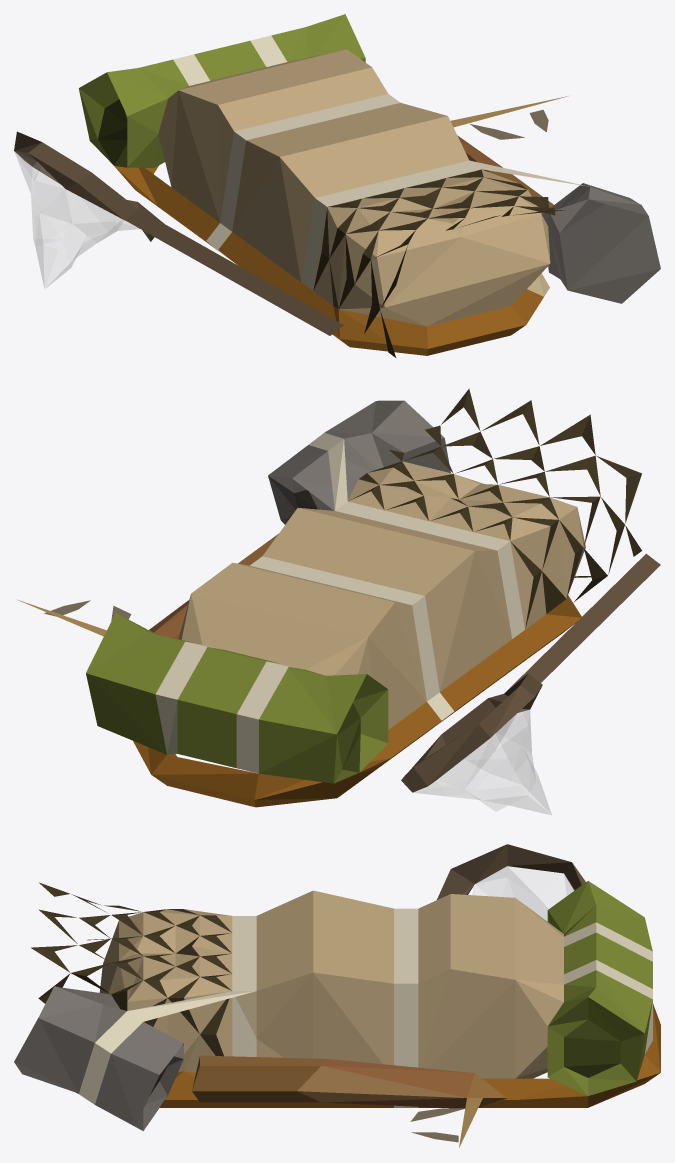
The model's file is huntsman-s-kit.gltf.
The picture shows the model from 3 angles, top to bottom: view 1: azimuth 30°, elevation 25°; view 2: azimuth 150°, elevation 25°; view 3: azimuth 270°, elevation 25°; orthographic projection. The views are drawn at different scales.
Bounding box in the file's own units: 74 × 24 × 80.
2 materials, 2 textured.
